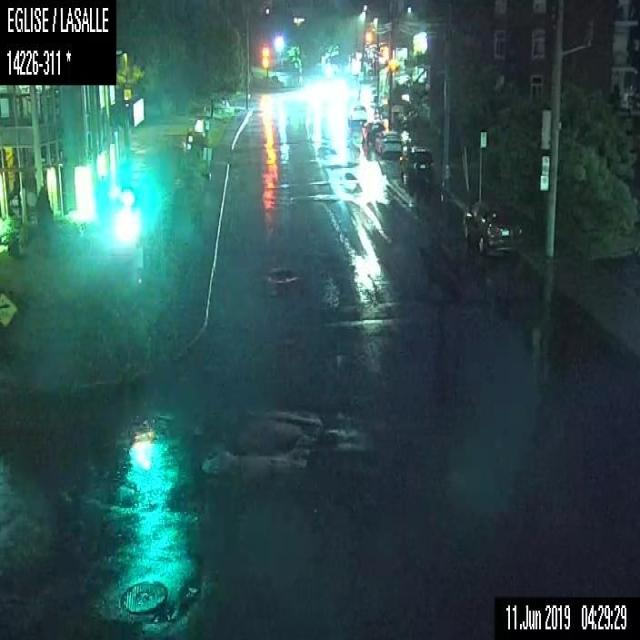vehicle: (462, 201, 522, 252), (401, 145, 434, 187), (375, 130, 404, 156), (362, 119, 386, 146), (346, 103, 368, 128)
